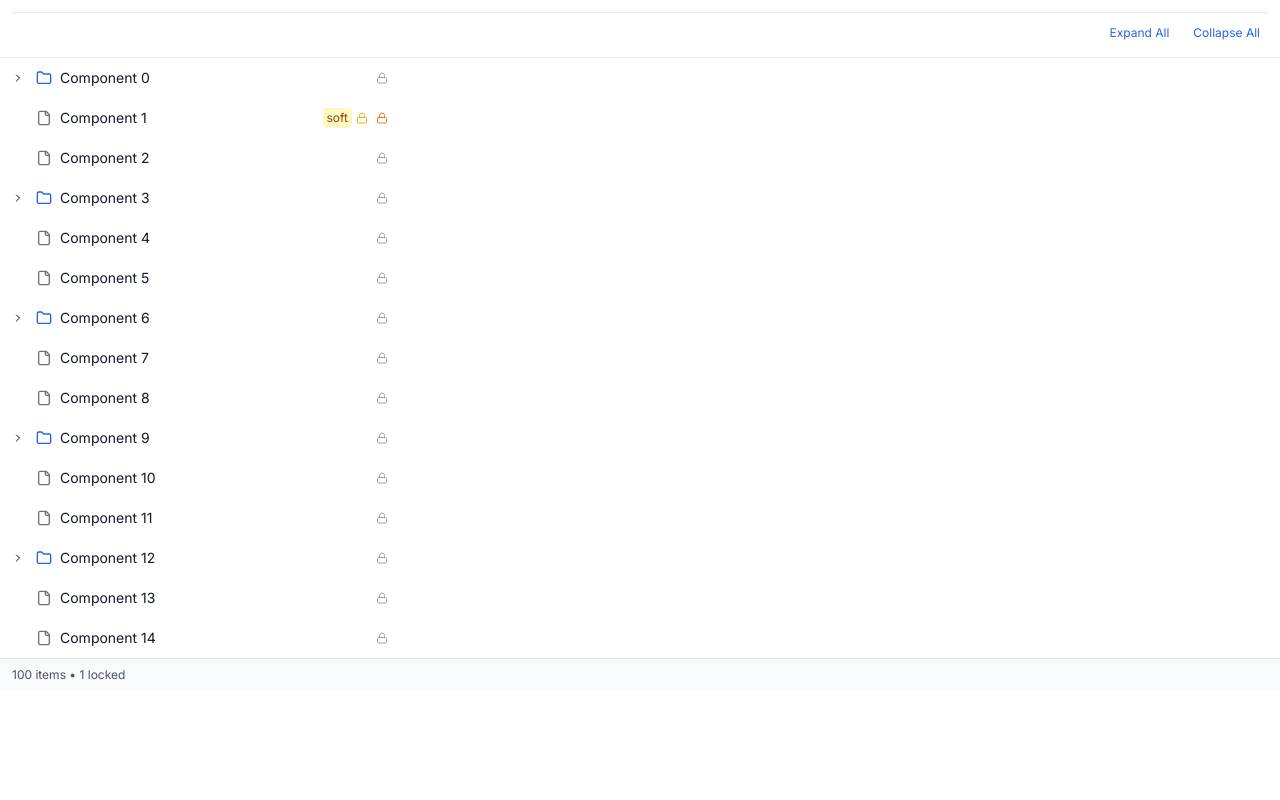
Scenario: VirtualizedLockTree › handles expand all / collapse all
This screenshot has width=1280, height=800.
# Expand all
What coordinates should you click on to do the following:
click the button "Expand All"
I would click on:
 (1139, 33)
Its box is left=1102, top=21, right=1177, bottom=45.
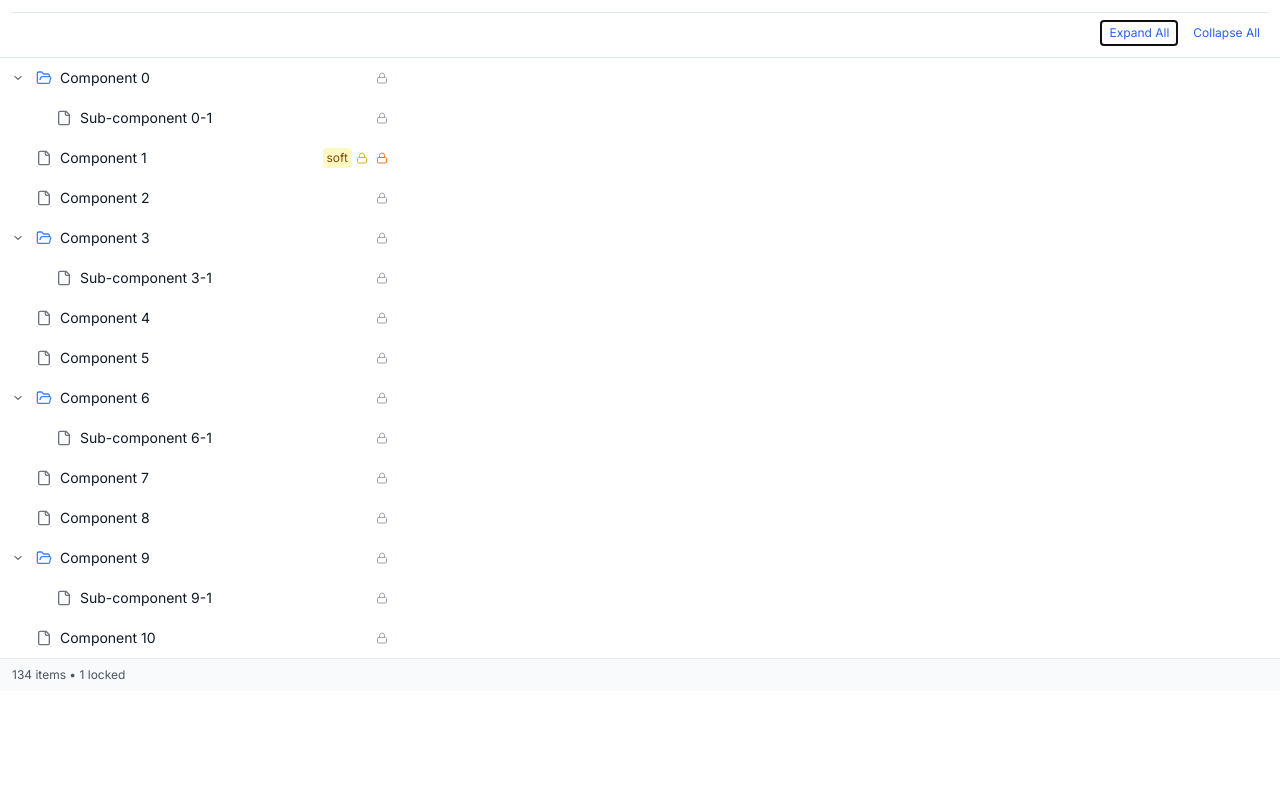
Now the button with test id "expand-node-" is expanded, box left=8, top=68, right=28, bottom=88
# Collapse all
What coordinates should you click on to do the following:
click the button "Collapse All"
I would click on:
 (1227, 33)
Its box is left=1185, top=21, right=1268, bottom=45.
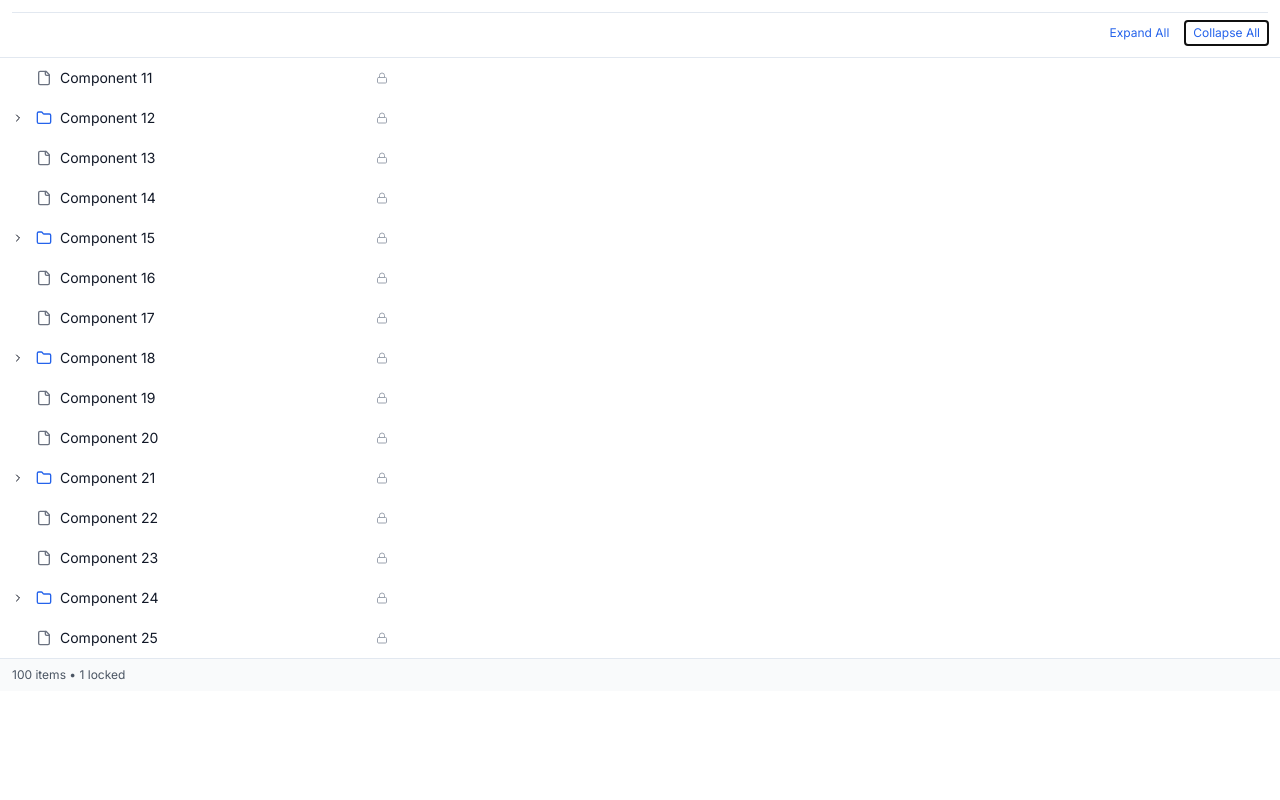
Now the button with test id "expand-node-" is collapsed, box left=8, top=108, right=28, bottom=128
